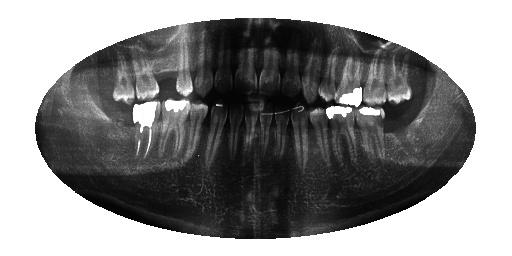i10decay: (228, 104, 243, 162)
i11decay: (204, 104, 229, 171)
i12healthy: (185, 102, 209, 164)
i13healthy: (157, 99, 193, 160)
i145healthy: (131, 98, 162, 162)
i15loss: (108, 104, 132, 162)
i2loss: (386, 107, 415, 163)
i3healthy: (355, 106, 387, 163)
i4healthy: (326, 102, 356, 165)
i5healthy: (307, 106, 332, 169)
i6healthy: (290, 103, 309, 174)
i7healthy: (273, 109, 289, 167)
i8healthy: (259, 110, 273, 167)
i9decay: (243, 106, 259, 164)
u10decay: (213, 18, 235, 97)
u11decay: (194, 20, 214, 99)
u12healthy: (175, 21, 194, 97)
u13loss: (158, 23, 175, 96)
u14healthy: (132, 33, 159, 100)
u15healthy: (110, 39, 134, 103)
u2healthy: (385, 40, 413, 106)
u3healthy: (361, 31, 388, 108)
u4healthy: (331, 23, 366, 108)
u5healthy: (317, 21, 337, 102)
u6healthy: (302, 19, 319, 106)
u7decay: (282, 19, 301, 98)
u8decay: (258, 18, 282, 93)
u9decay: (235, 17, 259, 96)
